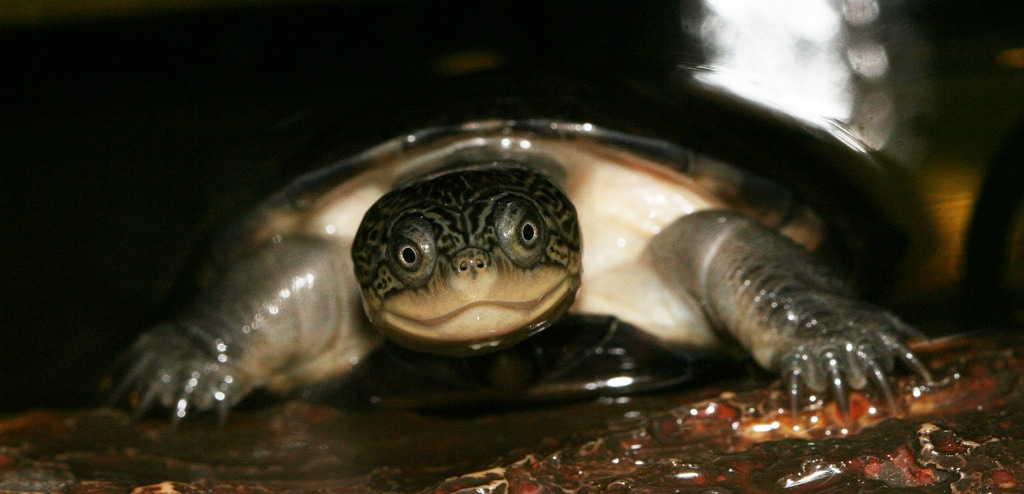eye: (490, 200, 554, 264), (386, 219, 444, 284)
mouth: (375, 274, 579, 342)
